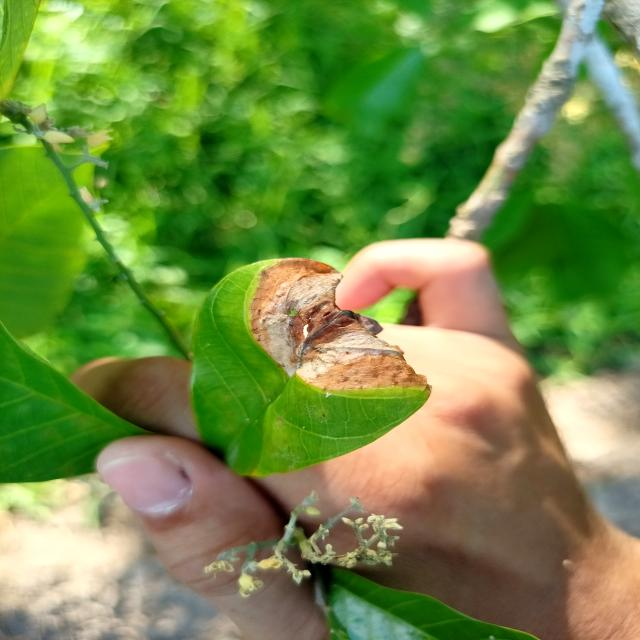Leaf-Blight: (249, 257, 432, 392)
